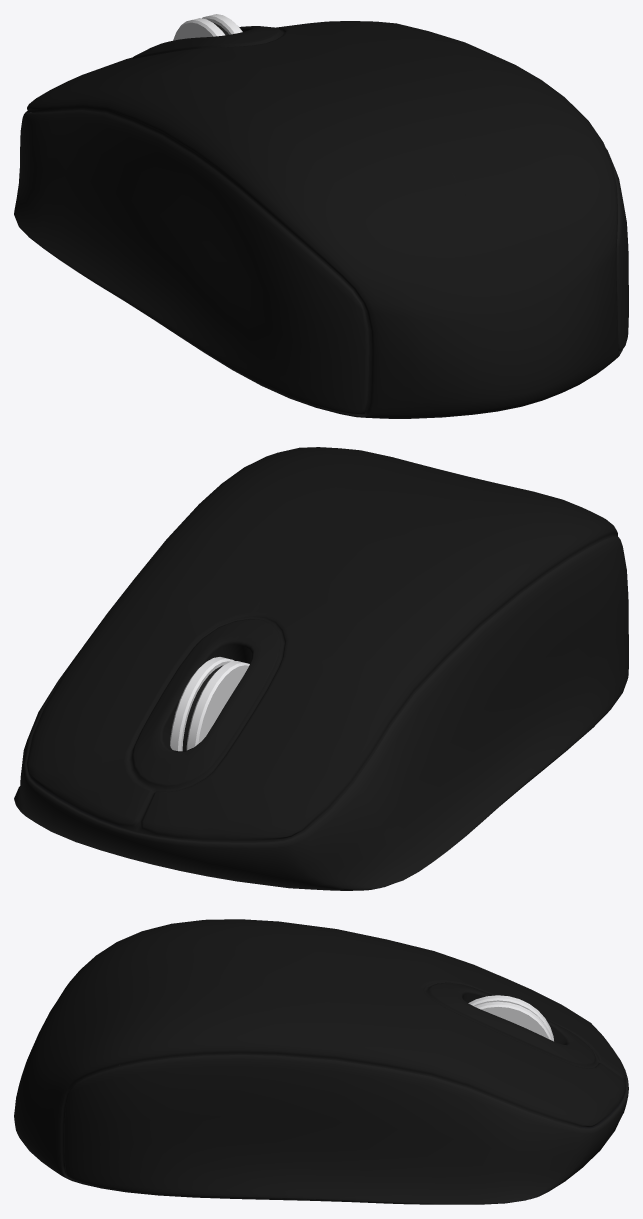
The model's file is Mouse.glb.
3 renders of one model, top to bottom at view 1: azimuth 30°, elevation 25°; view 2: azimuth 150°, elevation 25°; view 3: azimuth 270°, elevation 25°, orthographic. The views are drawn at different scales.
Parts seen in each view (by area): view 1: mouse.001; view 2: mouse.001; view 3: mouse.001.
Boxes of the visible parts, x1=… form: mouse.001: x1=14, y1=14, x2=628, y2=418; mouse.001: x1=14, y1=447, x2=628, y2=890; mouse.001: x1=14, y1=919, x2=628, y2=1204.
Size of the model in its own units: 0.0552 by 0.0289 by 0.0954.
Materials: 1 (1 with a texture image).
